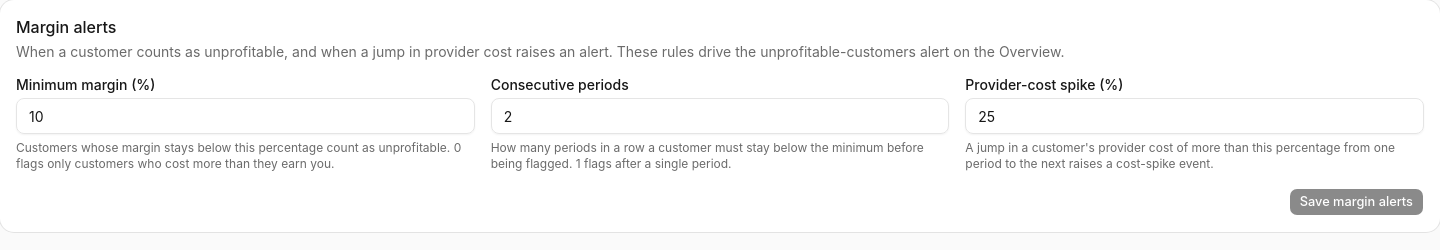
Test case: MarginAlertCard › rejects a consecutive-periods value below 1 with the field's message
Replace the text in the number field labelled "Consecutive periods" with "0" at (720, 116), box [491,98,949,134]
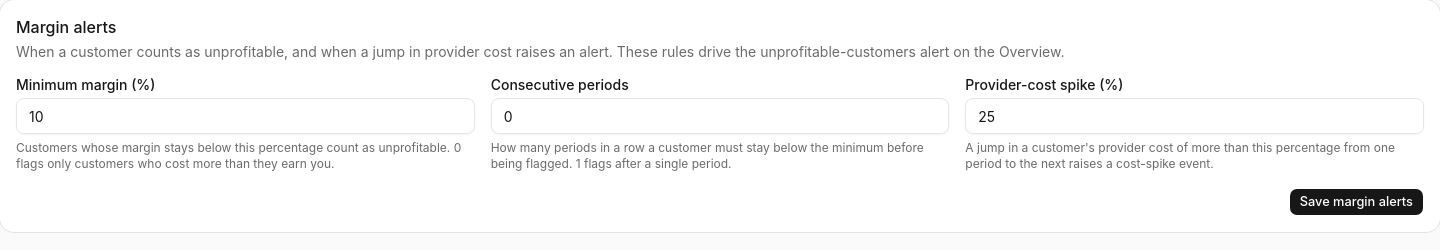
Click the button "Save margin alerts".
click(1356, 202)  # box [1289,188,1424,216]
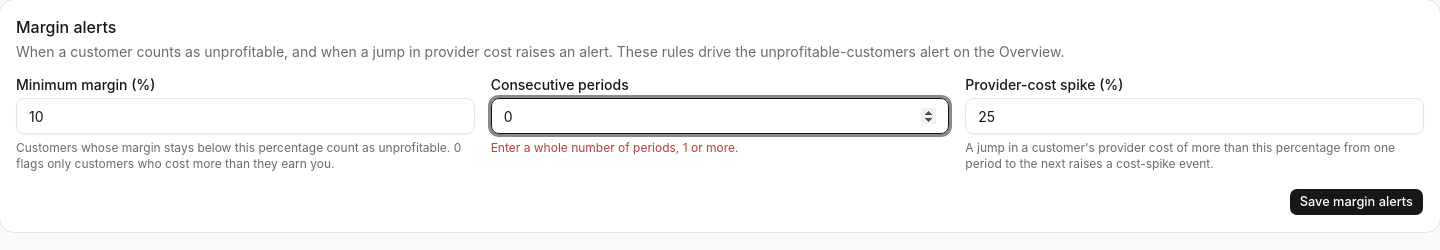
Check: the text "Enter a whole number of periods, 1 or more." is shown, box [491,140,739,155]
